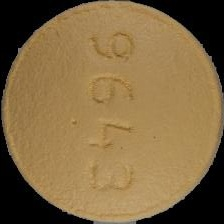0093-9643: (0, 0, 224, 224)
